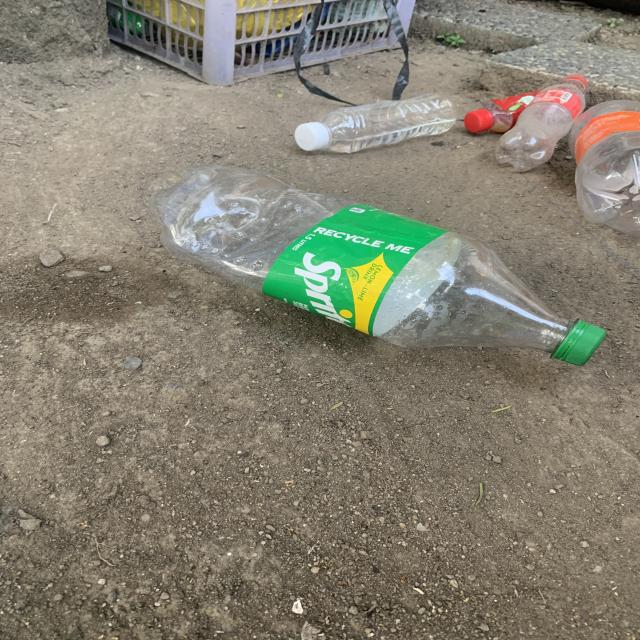Bottle: (150, 165, 606, 366)
